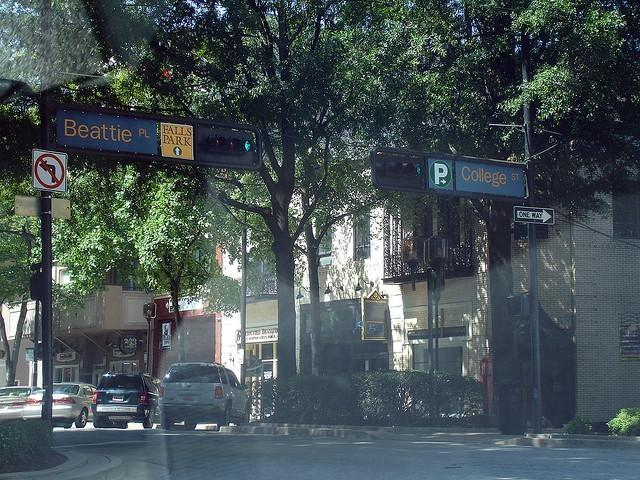car: (158, 363, 254, 431), (92, 372, 162, 430), (21, 382, 97, 429), (1, 385, 42, 420)
